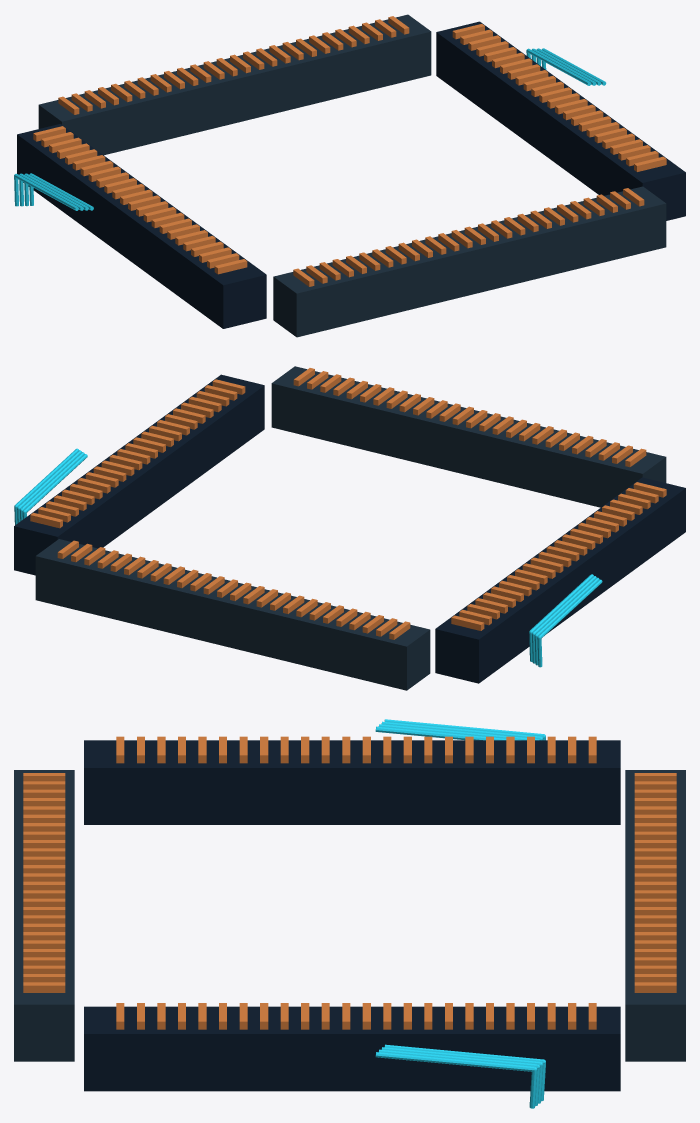
File: 26_L74_DualAxisLinearServoMotorAssembly.fbx
3 views of the same model, one above another, from view 1: azimuth 30°, elevation 25°; view 2: azimuth 150°, elevation 25°; view 3: azimuth 270°, elevation 25° (orthographic). The views are drawn at different scales.
Visible parts, largest first — view 1: DualAxisLinearServoMotorAssembly_Part_0077, DualAxisLinearServoMotorAssembly_Part_0050, DualAxisLinearServoMotorAssembly_Part_0000, DualAxisLinearServoMotorAssembly_Part_0025, DualAxisLinearServoMotorAssembly; view 2: DualAxisLinearServoMotorAssembly_Part_0050, DualAxisLinearServoMotorAssembly_Part_0077, DualAxisLinearServoMotorAssembly_Part_0000, DualAxisLinearServoMotorAssembly_Part_0025, DualAxisLinearServoMotorAssembly; view 3: DualAxisLinearServoMotorAssembly_Part_0000, DualAxisLinearServoMotorAssembly_Part_0025, DualAxisLinearServoMotorAssembly_Part_0050, DualAxisLinearServoMotorAssembly_Part_0077, DualAxisLinearServoMotorAssembly.
Part boxes in pixels (bbox=[...]): DualAxisLinearServoMotorAssembly_Part_0077: bbox=[273, 186, 666, 337]; DualAxisLinearServoMotorAssembly_Part_0050: bbox=[38, 14, 431, 155]; DualAxisLinearServoMotorAssembly_Part_0000: bbox=[17, 124, 266, 328]; DualAxisLinearServoMotorAssembly_Part_0025: bbox=[436, 21, 685, 220]; DualAxisLinearServoMotorAssembly: bbox=[14, 48, 606, 210]; DualAxisLinearServoMotorAssembly_Part_0050: bbox=[35, 539, 430, 690]; DualAxisLinearServoMotorAssembly_Part_0077: bbox=[271, 366, 666, 507]; DualAxisLinearServoMotorAssembly_Part_0000: bbox=[435, 477, 685, 683]; DualAxisLinearServoMotorAssembly_Part_0025: bbox=[14, 374, 264, 575]; DualAxisLinearServoMotorAssembly: bbox=[14, 448, 602, 667]; DualAxisLinearServoMotorAssembly_Part_0000: bbox=[84, 740, 620, 824]; DualAxisLinearServoMotorAssembly_Part_0025: bbox=[84, 1006, 620, 1091]; DualAxisLinearServoMotorAssembly_Part_0050: bbox=[625, 770, 685, 1061]; DualAxisLinearServoMotorAssembly_Part_0077: bbox=[14, 770, 74, 1061]; DualAxisLinearServoMotorAssembly: bbox=[375, 719, 545, 1108].
Size of the model in its own units: 340 by 30.8 by 288.
